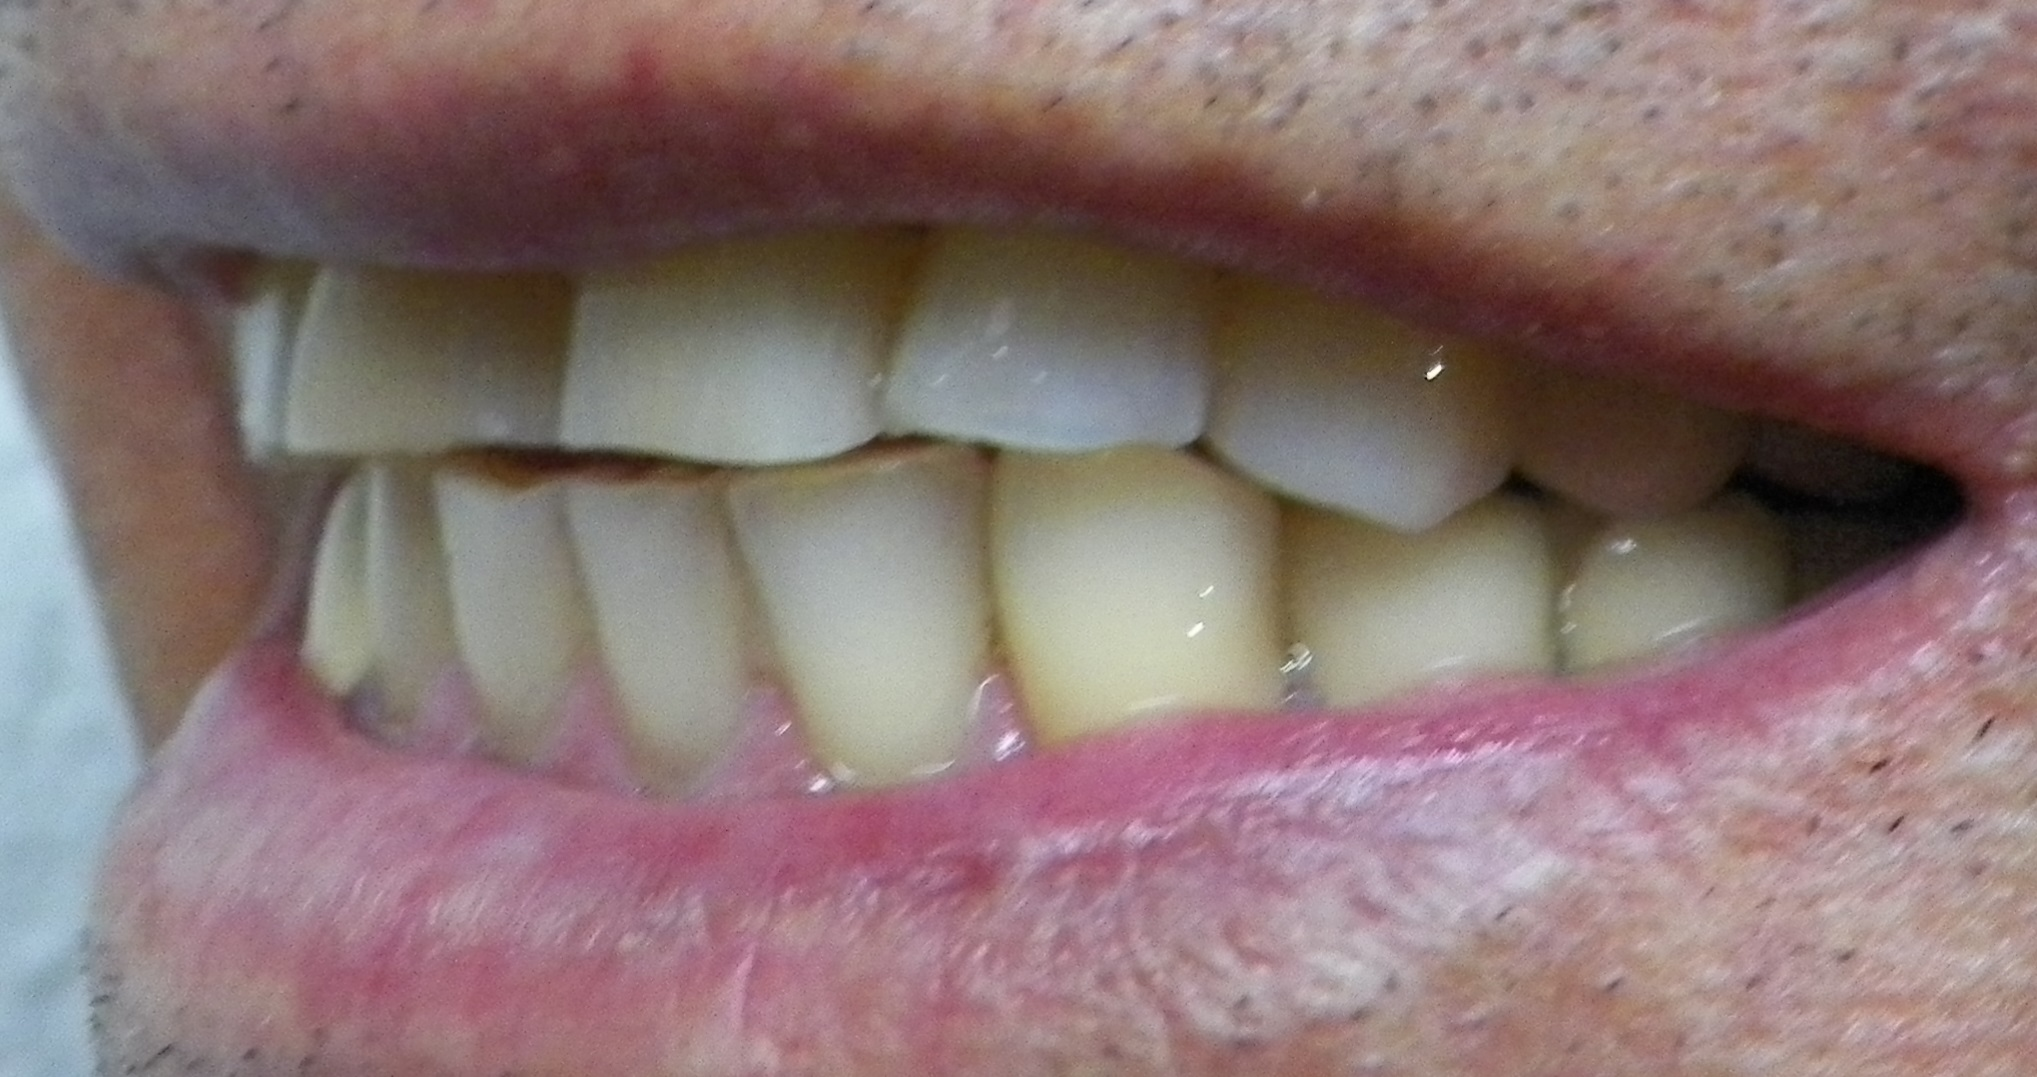boca: (230, 264, 1807, 751)
